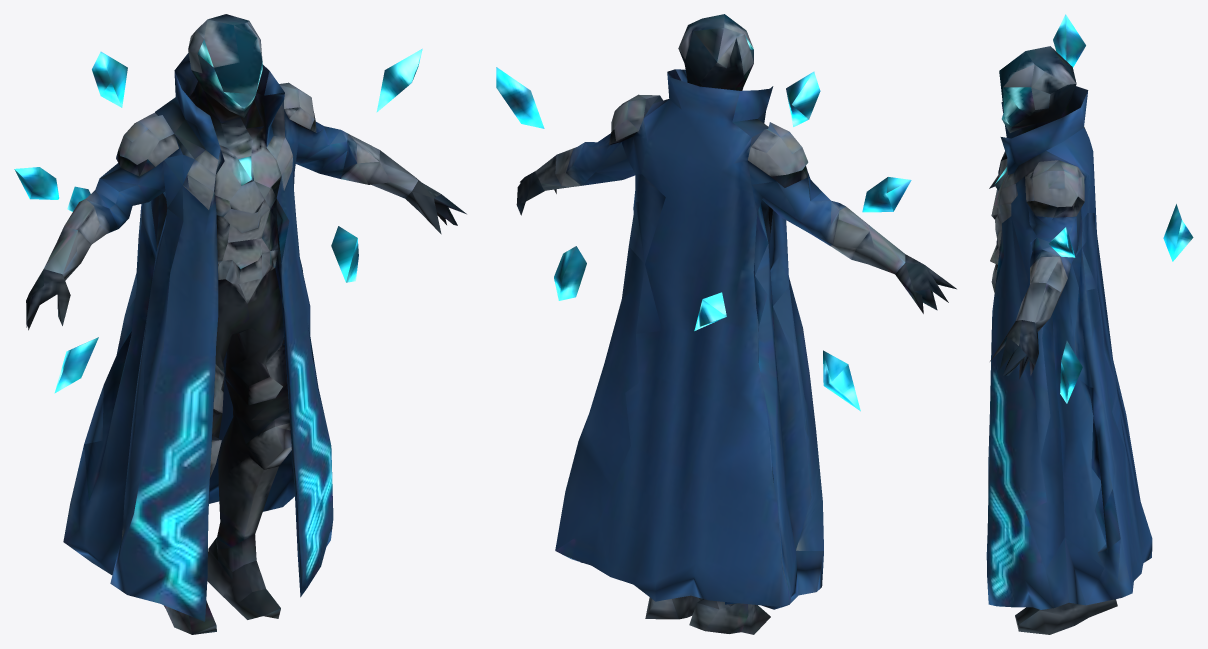
The model's file is unit_psion.glb.
3 views of the same model, side by side, from view 1: azimuth 30°, elevation 25°; view 2: azimuth 150°, elevation 25°; view 3: azimuth 270°, elevation 25° (orthographic). The views are drawn at different scales.
Parts seen in each view (by area): view 1: unit_psion; view 2: unit_psion; view 3: unit_psion.
Boxes of the visible parts, bbox=[...] form: unit_psion: bbox=[14, 14, 466, 634]; unit_psion: bbox=[496, 14, 956, 634]; unit_psion: bbox=[986, 14, 1193, 634].
Size of the model in its own units: 0.7648 by 1 by 0.3328.
Materials: 1 (1 with a texture image).
